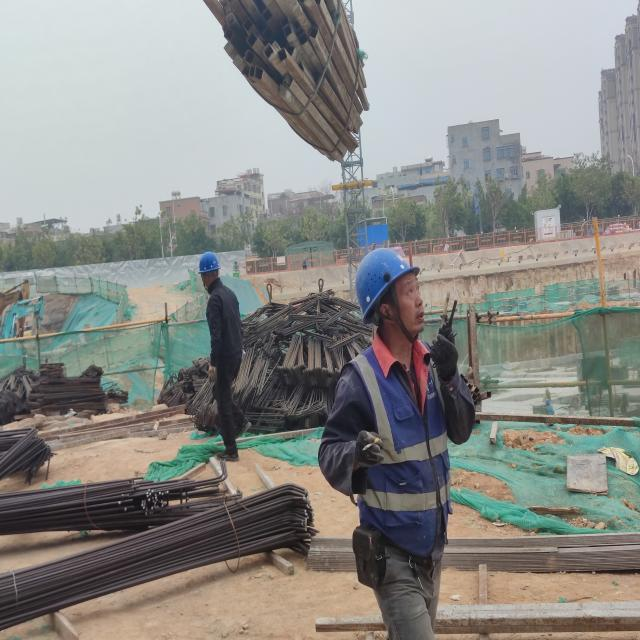helmet: (355, 248, 420, 343), (199, 252, 220, 273)
